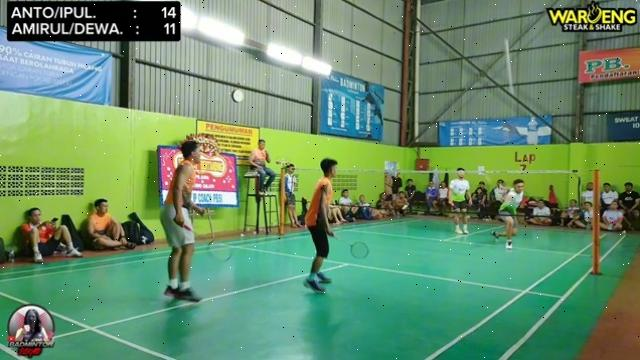Shuttlecock: (500, 34, 518, 98)
